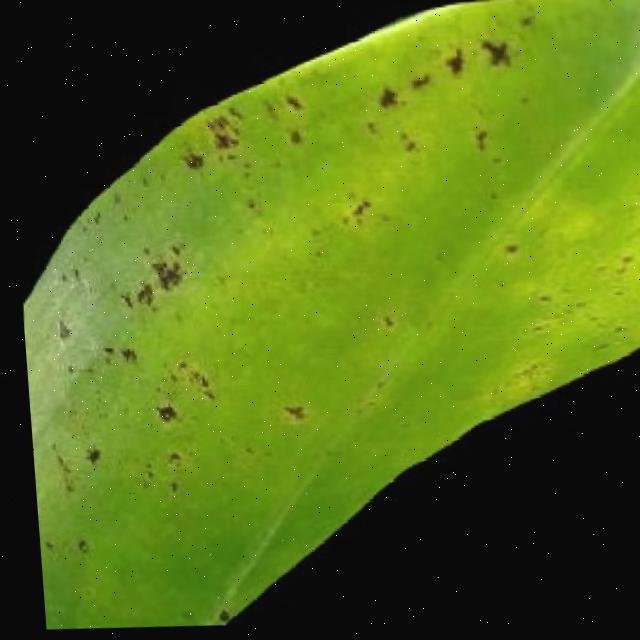spots: (11, 0, 640, 629)
